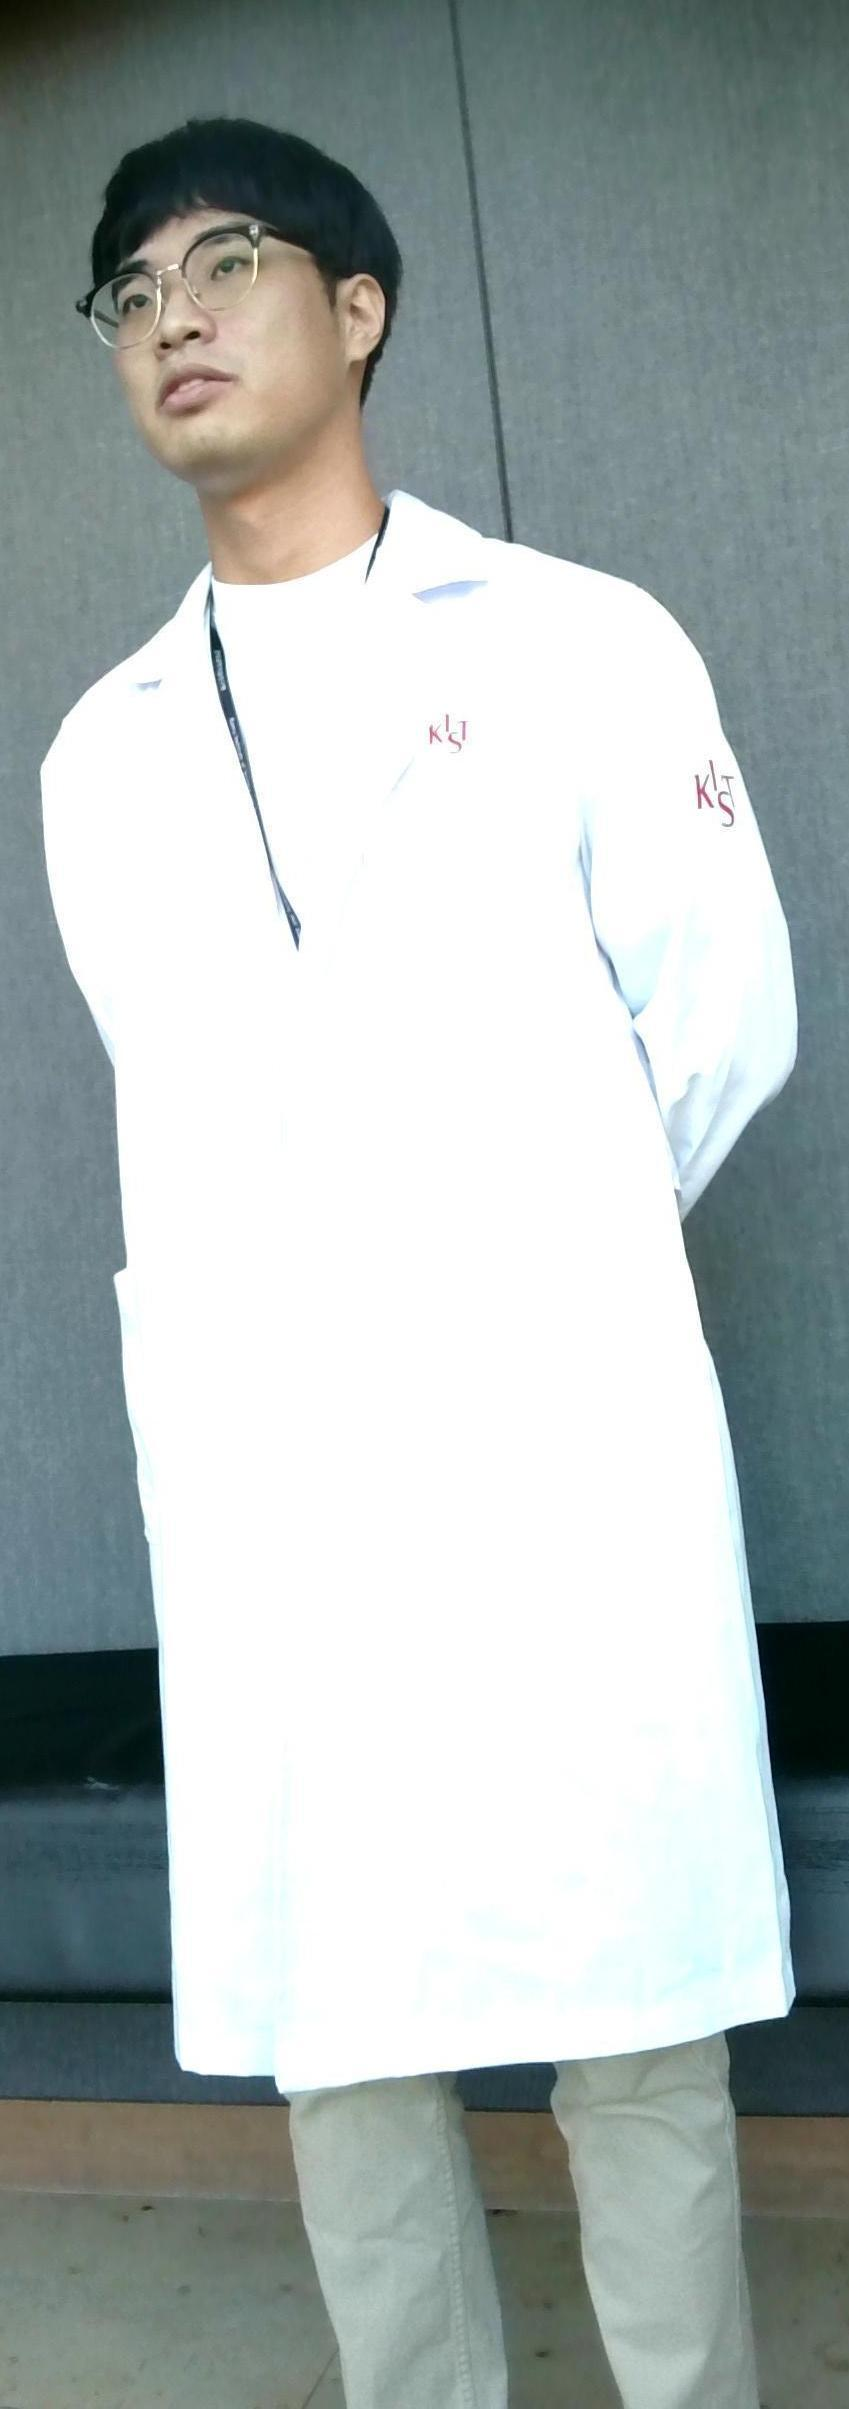lab_coat: (41, 556, 803, 2030)
